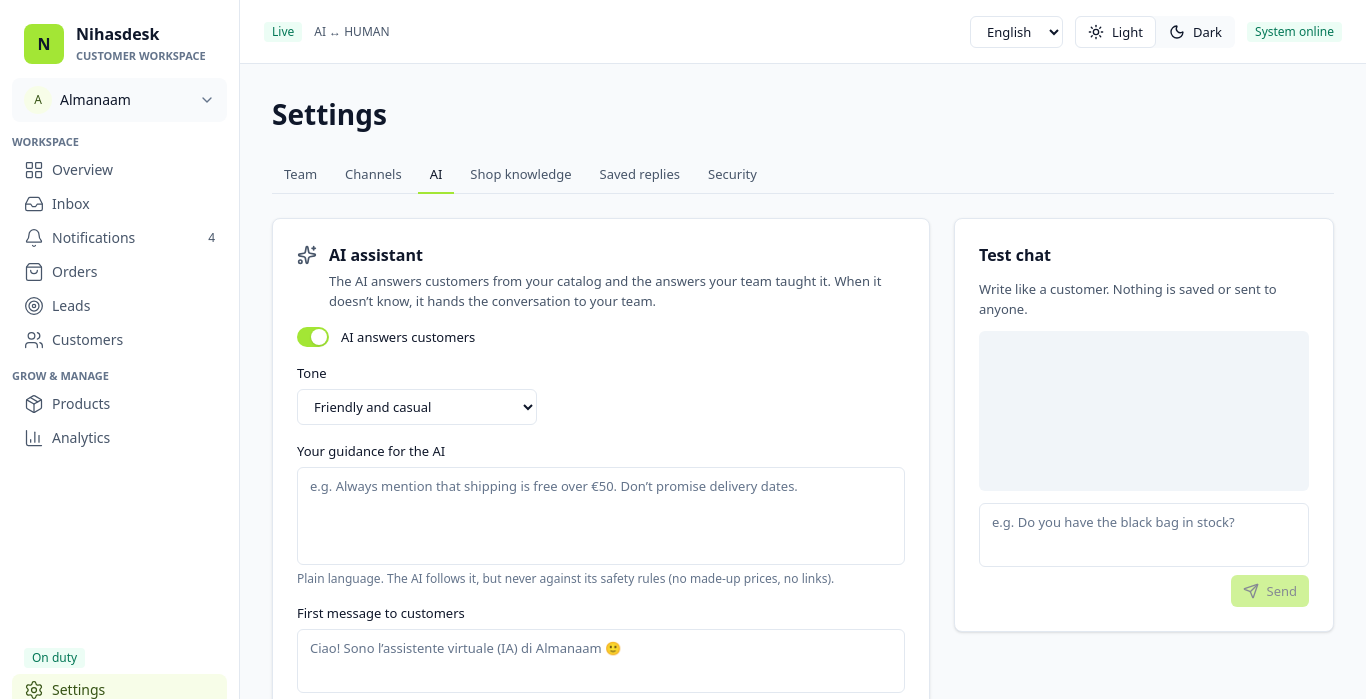
Test case: Settings → AI › explains why the AI provider failed
In the text box named "Test message": (1144, 535) [979,503,1309,567], type "Ciao"
Then press Enter
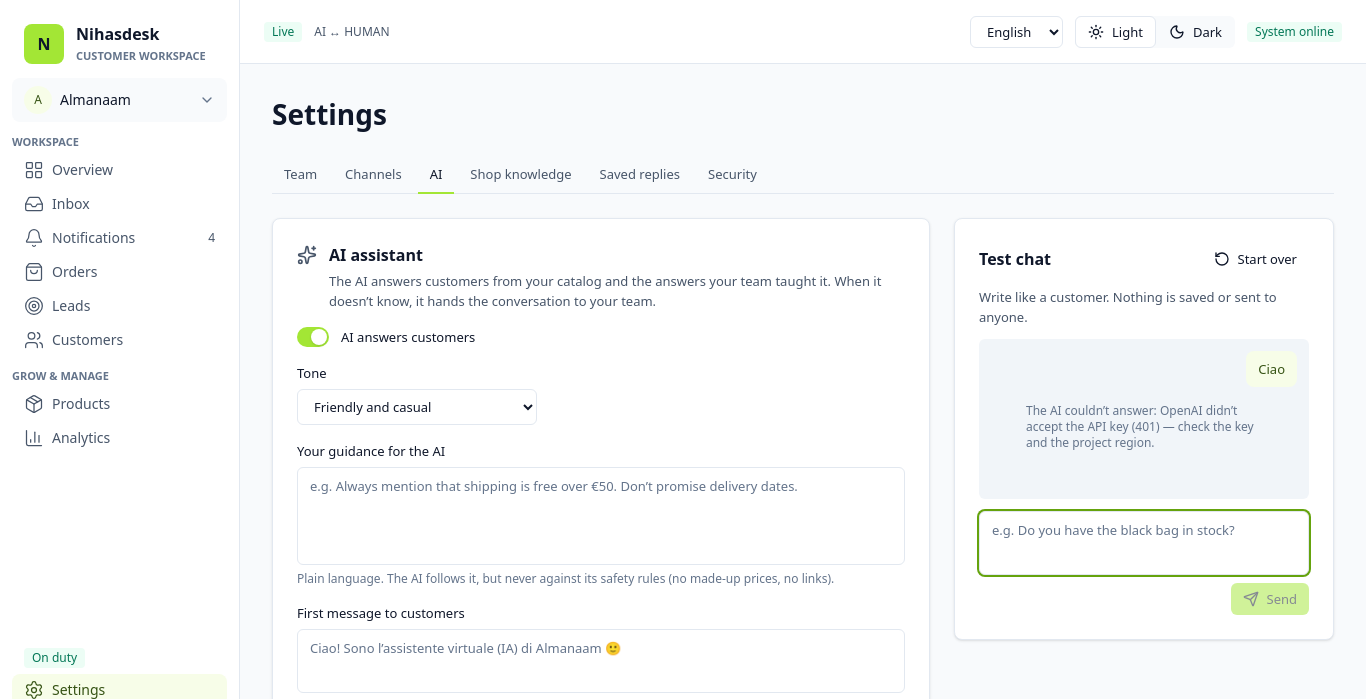
Now the list item "didn’t accept the API key (401)" is shown, box [1026,402,1254,451]
